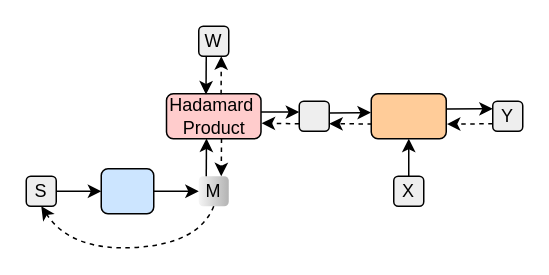
This 549x275 diagram has some shape labels left out. Each missing label, with the box of its shape:
Conv: (370, 92, 446, 139)
STE: (100, 167, 154, 214)
W': (298, 100, 329, 131)
